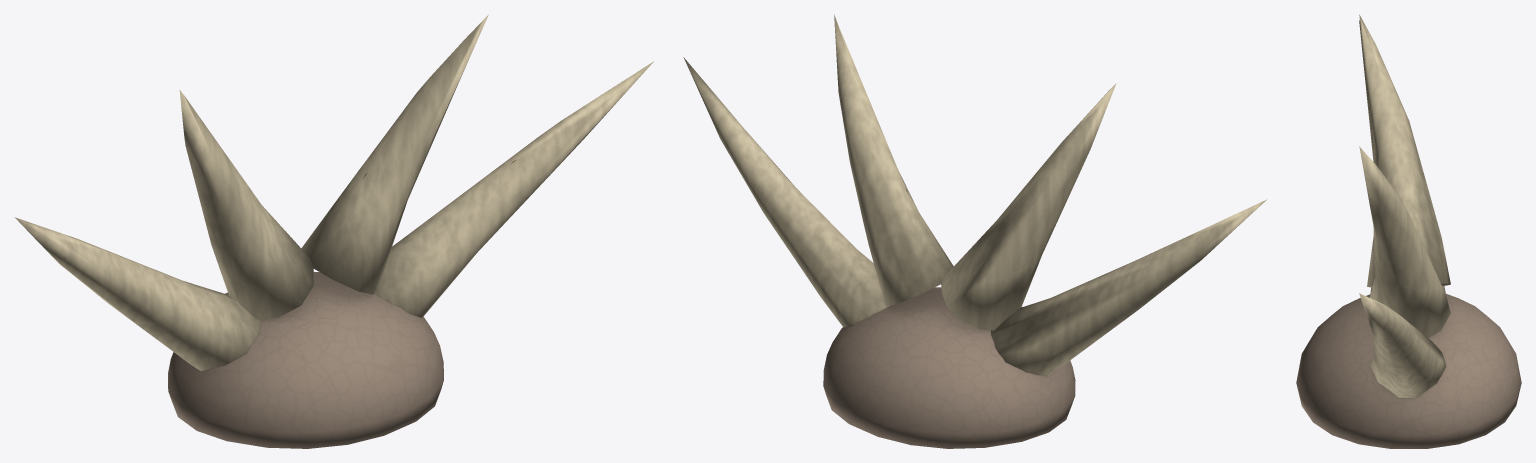
File: cpart_tail_spikes.glb
3 renders of one model, left to right at view 1: azimuth 30°, elevation 25°; view 2: azimuth 150°, elevation 25°; view 3: azimuth 270°, elevation 25°, orthographic. The views are drawn at different scales.
Visible parts, largest first — view 1: TailSpikes; view 2: TailSpikes; view 3: TailSpikes.
Part boxes in pixels (x1,y1,x2,y2): TailSpikes: (14, 14, 653, 448); TailSpikes: (683, 14, 1266, 448); TailSpikes: (1296, 14, 1521, 448).
Size of the model in its own units: 0.2584 by 0.1404 by 0.09.
2 materials, 2 textured.
